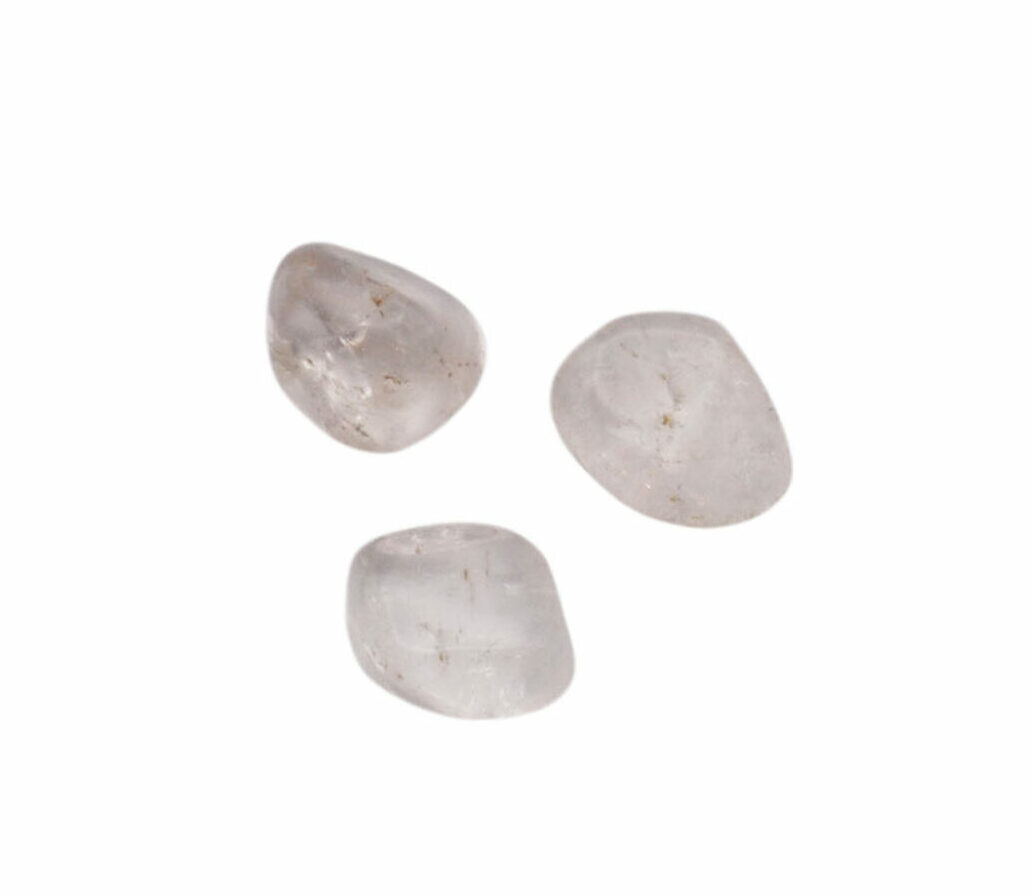Clear_Quartz: (550, 308, 793, 530), (264, 240, 499, 458), (342, 515, 582, 722)
